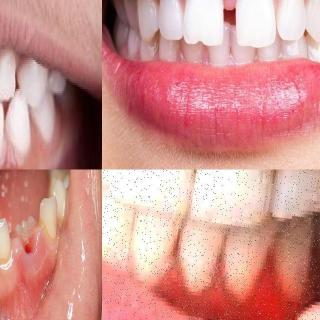Gum Swelling: (156, 255, 300, 320), (13, 225, 52, 279)
maligned: (12, 212, 41, 256)
stains: (41, 215, 59, 243), (0, 247, 12, 273)
